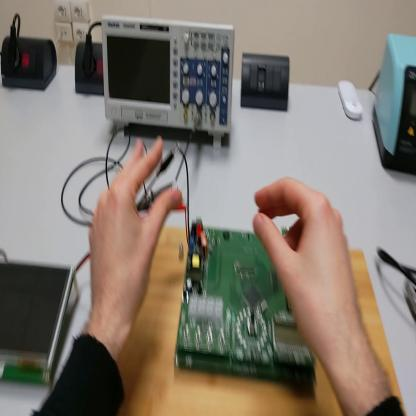hand: (253, 177, 362, 359), (84, 137, 178, 333)
low voltage board: (174, 146, 318, 392)
oscilloscope: (102, 13, 236, 150)
oscilloscope probe tip: (136, 181, 174, 217)
pliers: (404, 279, 416, 319)
socket: (2, 33, 57, 94), (75, 40, 106, 99)
welder station: (374, 36, 416, 179)
working area: (112, 228, 409, 416)
